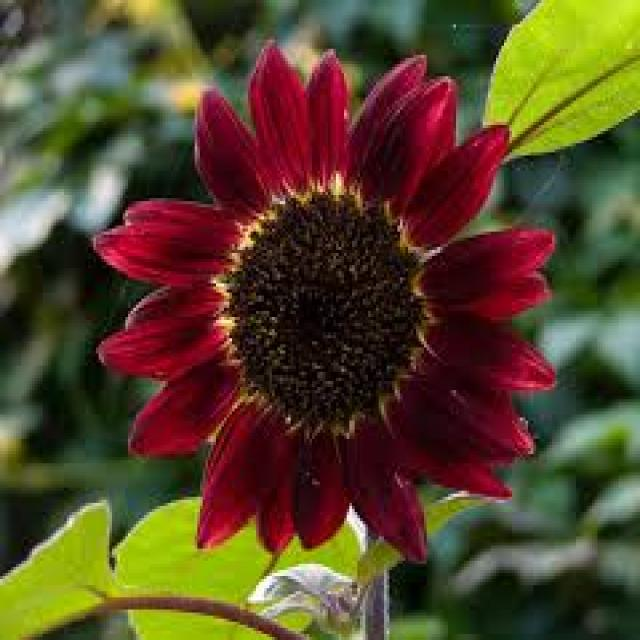sunflower: (85, 31, 569, 586)
